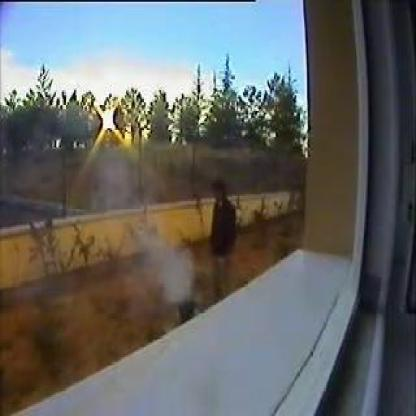-: (154, 240, 188, 294)
